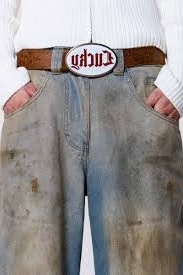earth: (141, 231, 178, 274), (165, 180, 182, 202), (4, 147, 16, 162), (29, 174, 38, 193)
